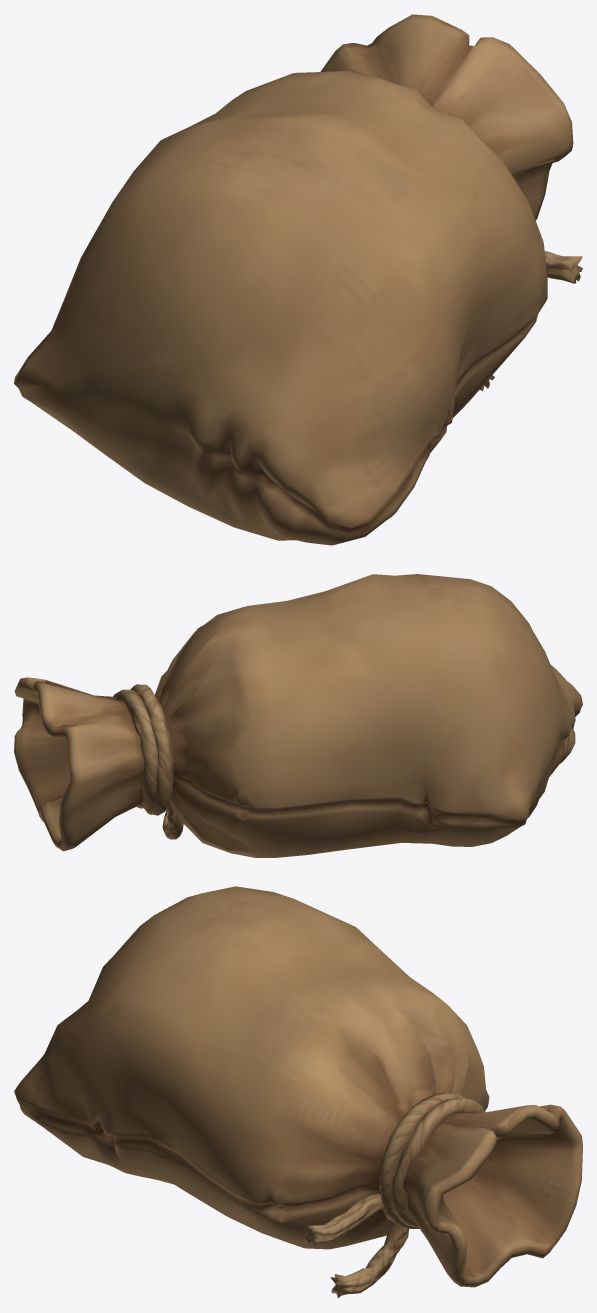
The picture shows the model from 3 angles, top to bottom: view 1: azimuth 30°, elevation 25°; view 2: azimuth 150°, elevation 25°; view 3: azimuth 270°, elevation 25°; orthographic projection. The views are drawn at different scales.
Parts seen in each view (by area): view 1: tripo_node_5eb4f929-271d-41f2-bcd6-3a4172288777; view 2: tripo_node_5eb4f929-271d-41f2-bcd6-3a4172288777; view 3: tripo_node_5eb4f929-271d-41f2-bcd6-3a4172288777.
Part boxes in pixels (<box>): tripo_node_5eb4f929-271d-41f2-bcd6-3a4172288777: <box>14,14,582,545</box>; tripo_node_5eb4f929-271d-41f2-bcd6-3a4172288777: <box>14,574,582,857</box>; tripo_node_5eb4f929-271d-41f2-bcd6-3a4172288777: <box>14,886,582,1298</box>.
Size of the model in its own units: 0.998 by 0.5488 by 0.998.
Materials: 1 (1 with a texture image).
